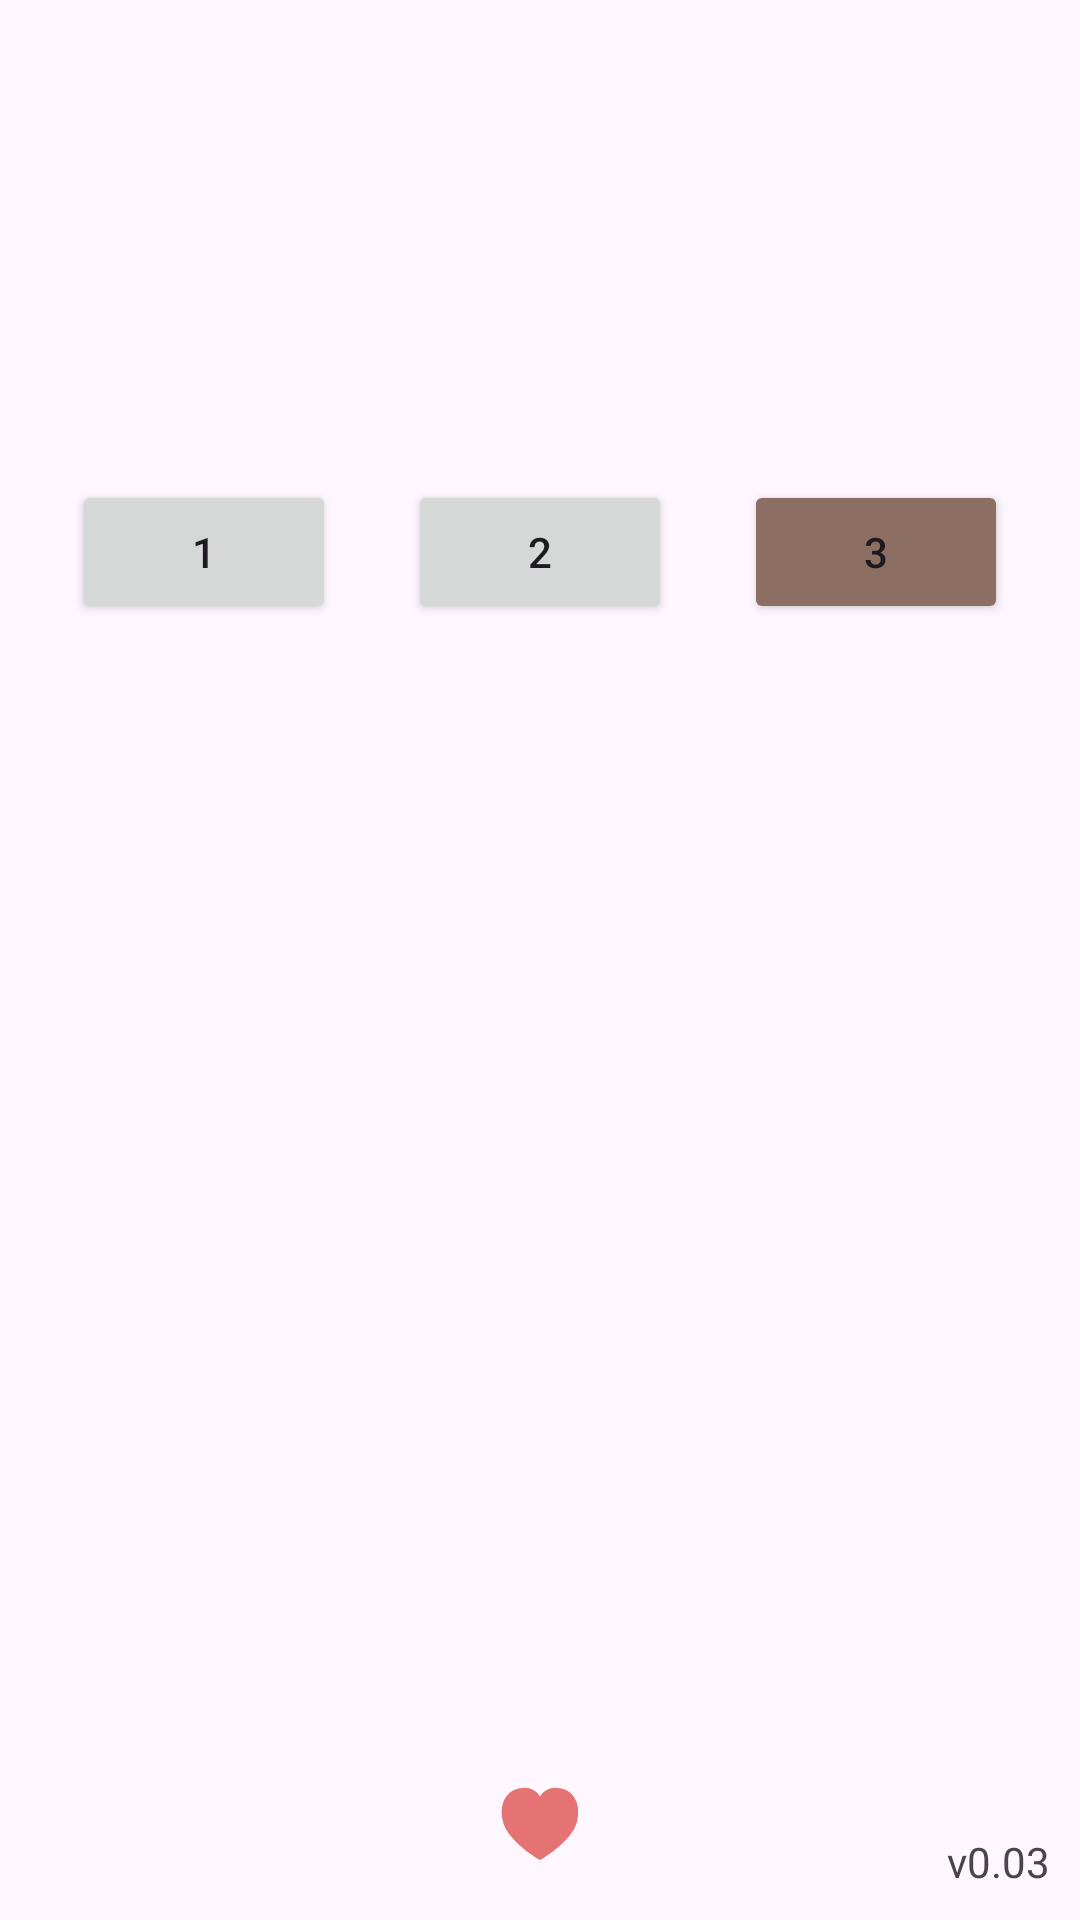

Screen size 1080*1920. Icon name, then its box in pixels as (x1, y1, x2, y2):
love: (501, 1787, 578, 1860)
